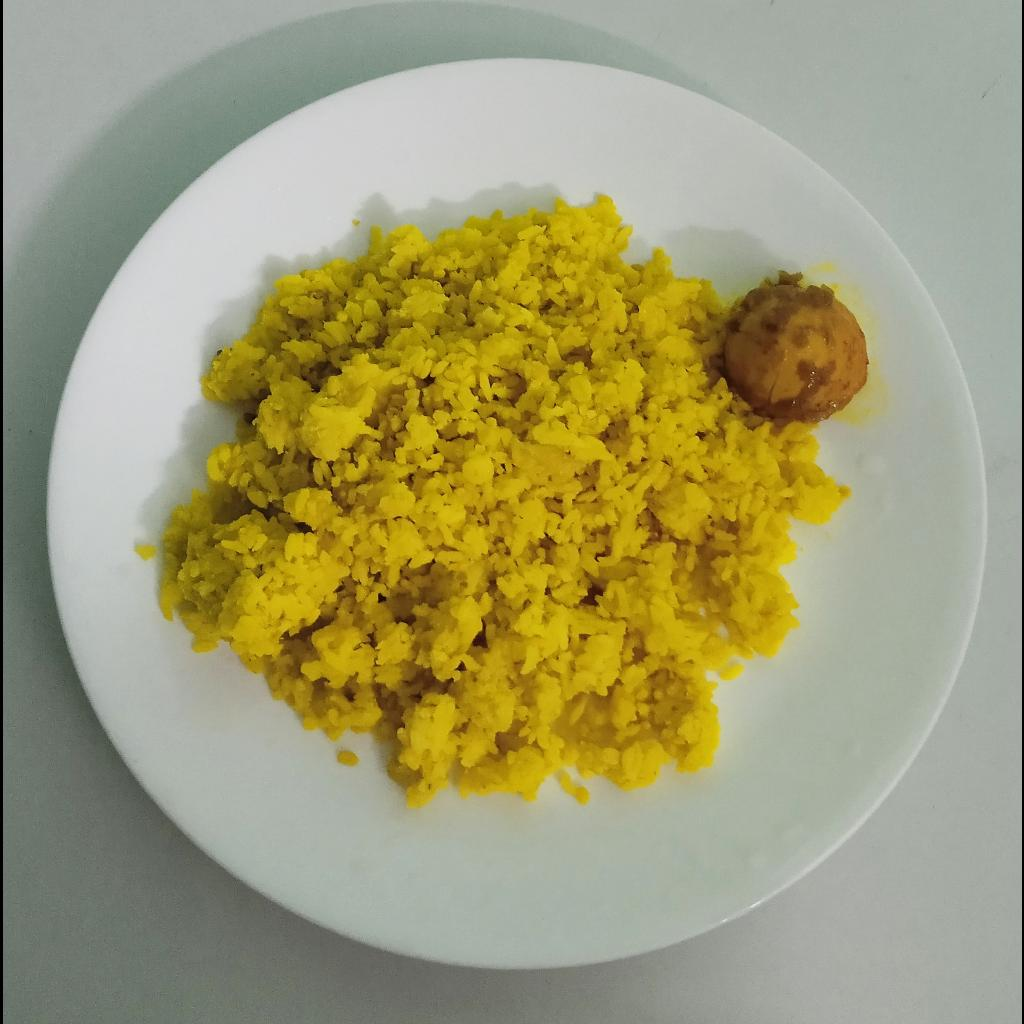egg-boiled: (727, 270, 871, 427)
khichuri: (158, 193, 850, 810)
